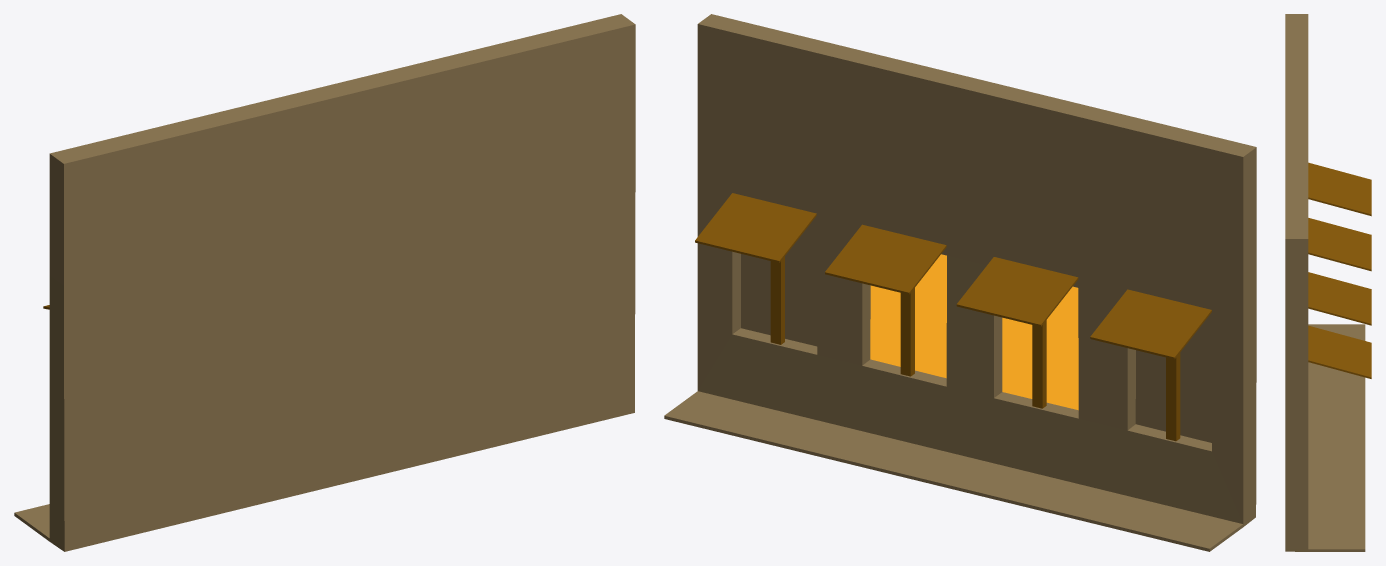
Rendered from Building1.fbx.
3 renders of one model, left to right at view 1: azimuth 30°, elevation 25°; view 2: azimuth 150°, elevation 25°; view 3: azimuth 270°, elevation 25°, orthographic. The views are drawn at different scales.
Parts seen in each view (by area): view 1: Plane.002; view 2: Plane.002; view 3: Plane.002.
Part boxes in pixels (x1,y1,x2,y2): Plane.002: (14,14,635,551); Plane.002: (664,14,1256,551); Plane.002: (1285,14,1371,551).
Bounding box in the file's own units: 324 × 210 × 52.4.
